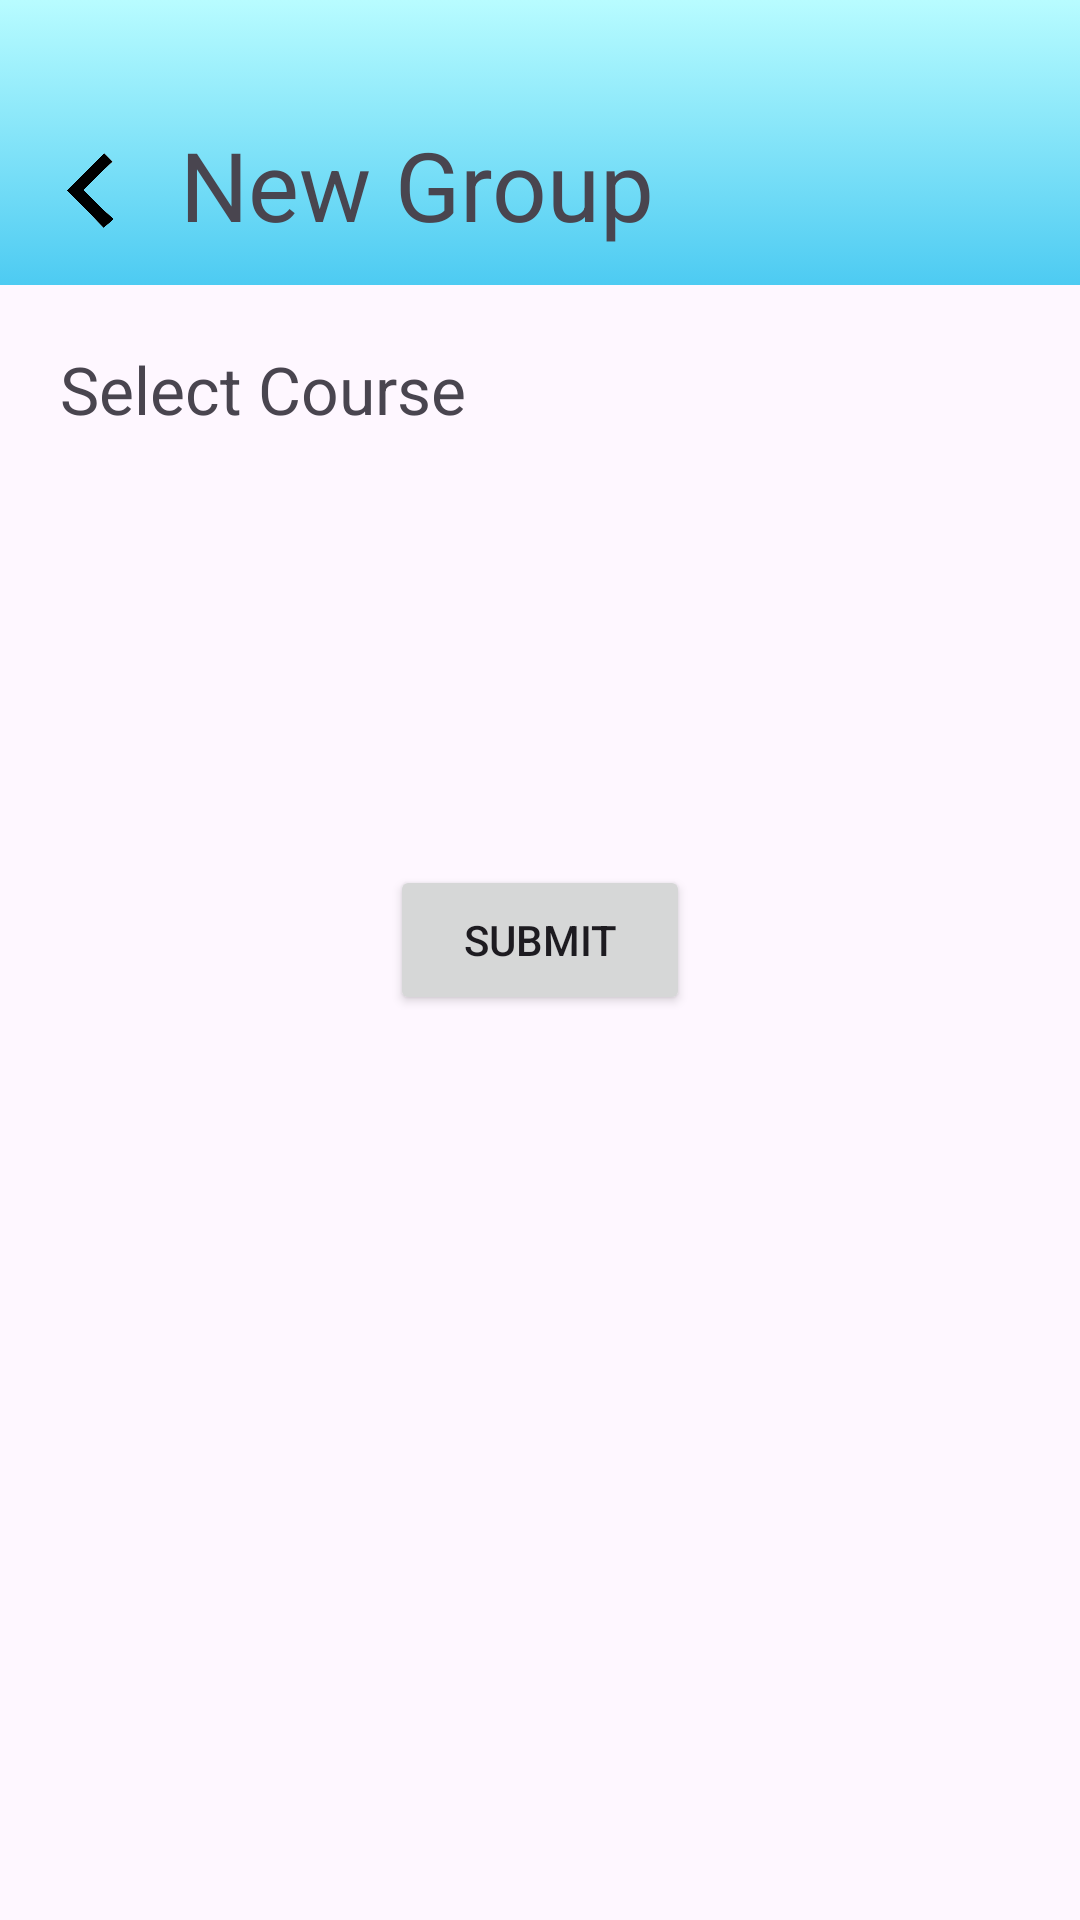

Named icons in this screenshot (1080 x 1920) and their centers, (x=x, y=y):
back arrow: (x=90, y=202)
